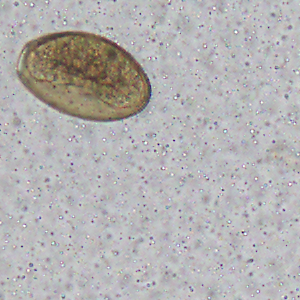Fasciola_hepatica_egg: (15, 30, 153, 122)
